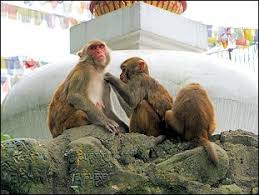monkey: (18, 21, 120, 141), (98, 29, 182, 153), (159, 66, 238, 159)
